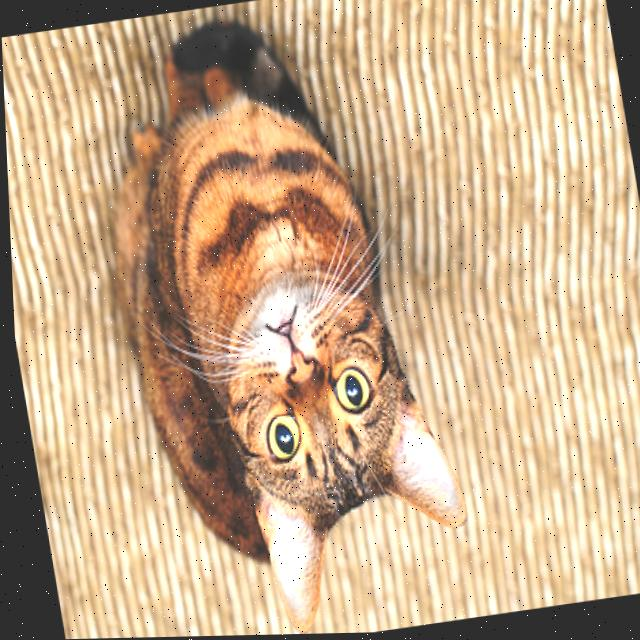Bengal: (59, 0, 484, 639)
